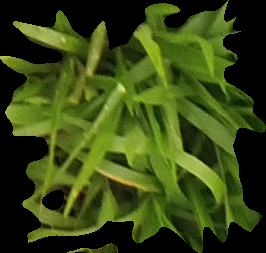grass: (2, 1, 264, 251)
